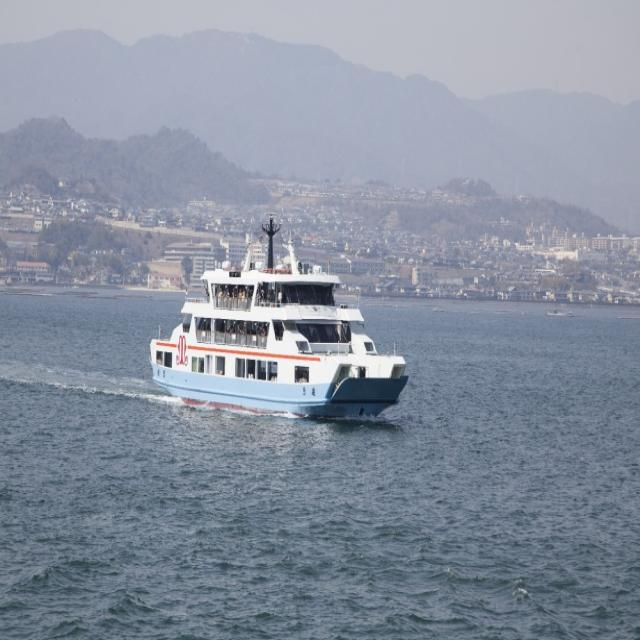passenger ship: (127, 169, 406, 422)
